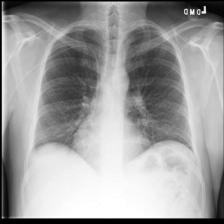normal: (26, 18, 200, 181)
